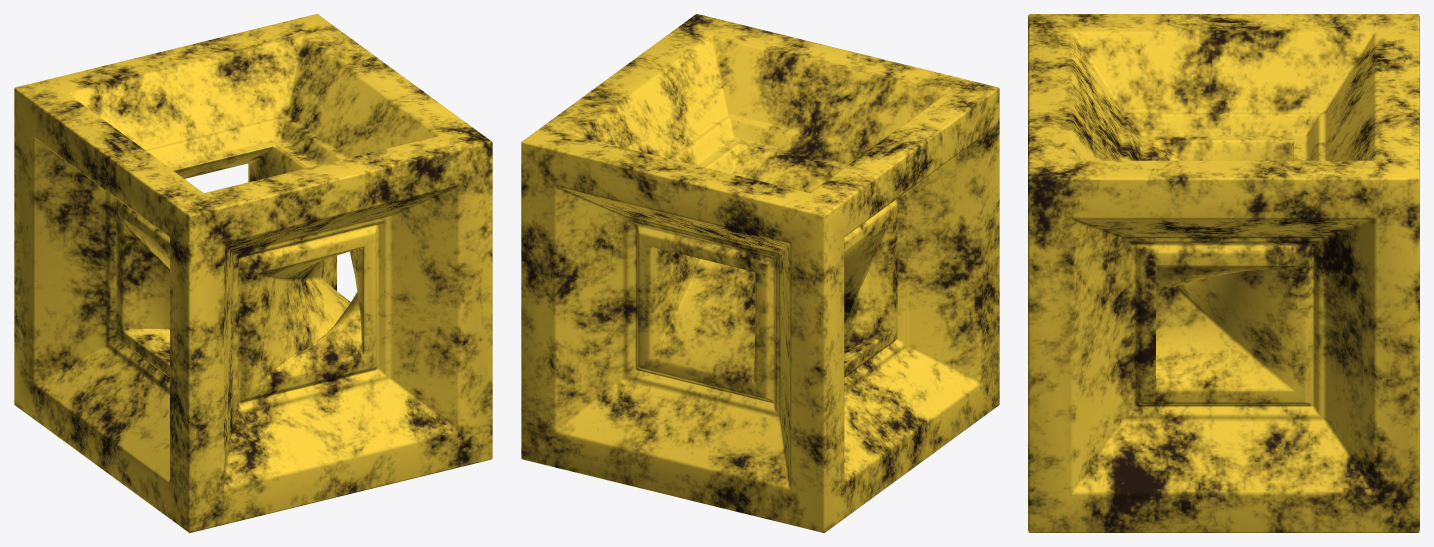
File: Int_Cube.gltf
3 renders of one model, left to right at view 1: azimuth 30°, elevation 25°; view 2: azimuth 150°, elevation 25°; view 3: azimuth 270°, elevation 25°, orthographic. The views are drawn at different scales.
Parts seen in each view (by area): view 1: Cube.001; view 2: Cube.001; view 3: Cube.001.
Part boxes in pixels (x1,y1,x2,y2): Cube.001: [14, 14, 492, 532]; Cube.001: [521, 14, 999, 532]; Cube.001: [1028, 14, 1419, 532].
Size of the model in its own units: 0.617 by 0.617 by 0.617.
Materials: 1 (1 with a texture image).
